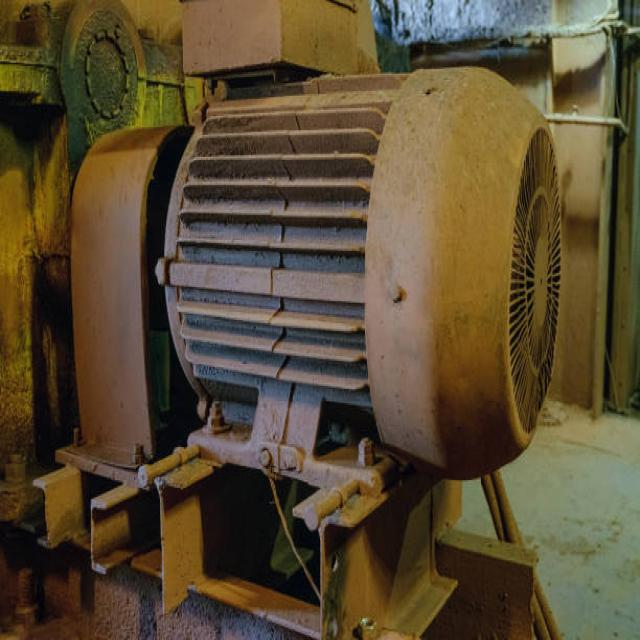compressor: (2, 0, 566, 637)
